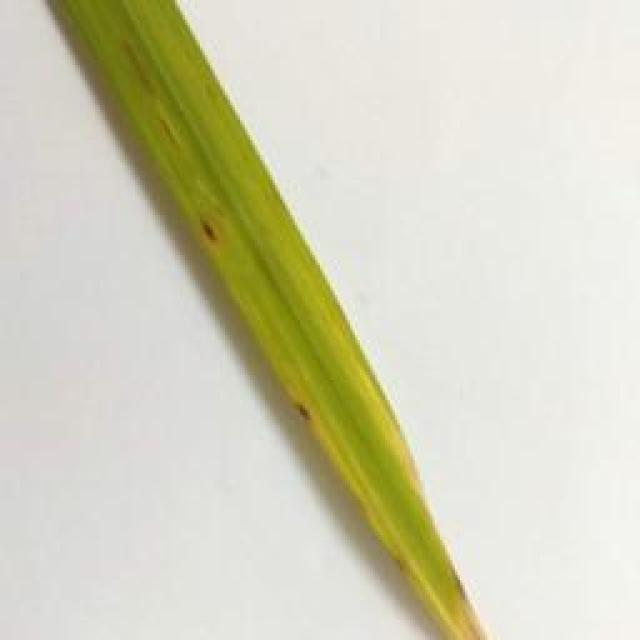Brown_Spot: (457, 565, 484, 610), (286, 394, 320, 426), (387, 546, 410, 575), (194, 215, 216, 245)
